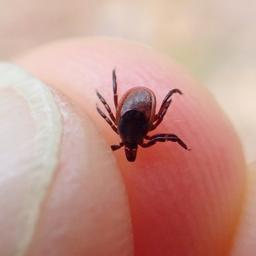Ixodes scapularis: (95, 68, 192, 162)
